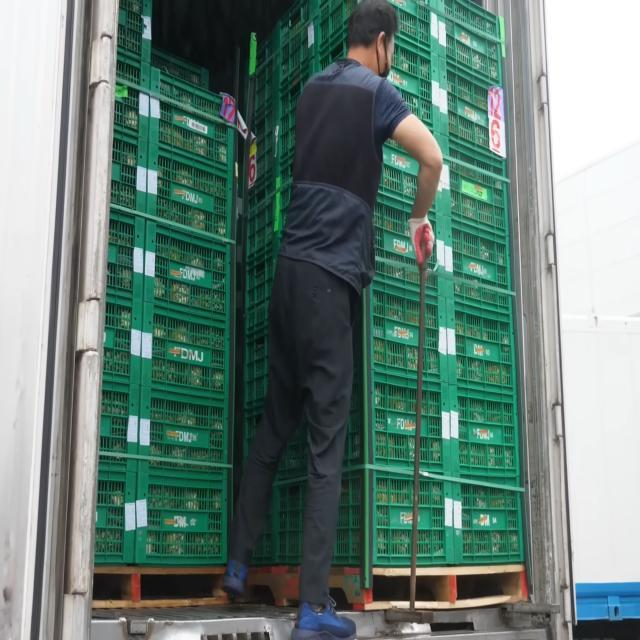gloved_hand: (407, 213, 437, 266)
